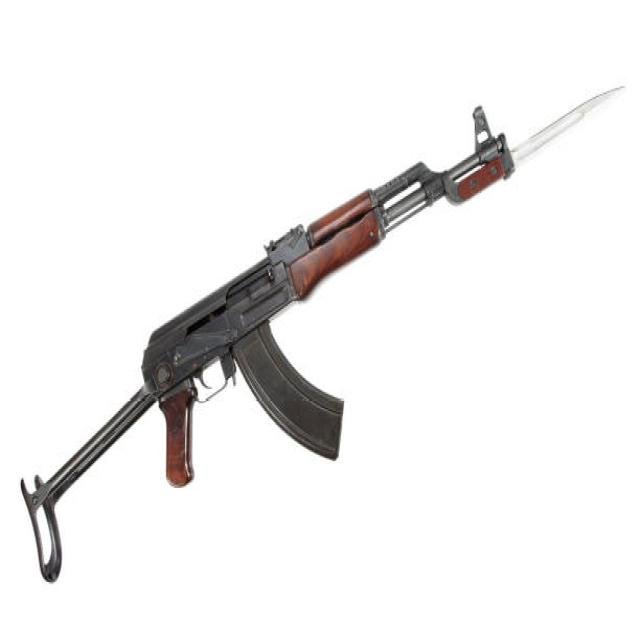rifle: (17, 81, 631, 589)
